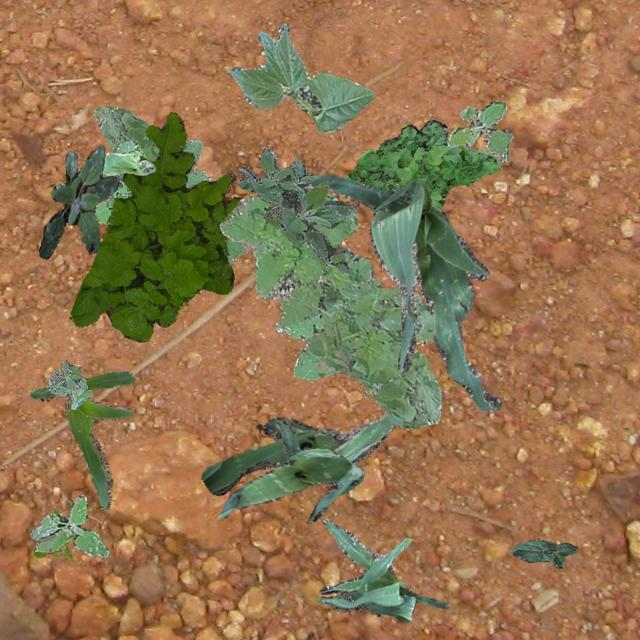crop: (308, 174, 500, 410), (200, 408, 394, 494), (228, 22, 374, 132), (215, 418, 364, 522), (29, 364, 132, 510), (316, 516, 448, 620), (508, 538, 576, 568), (100, 152, 154, 174)
weed: (218, 194, 440, 428), (68, 112, 240, 340), (92, 104, 248, 264), (236, 146, 358, 272), (344, 119, 499, 208), (38, 144, 118, 258), (29, 494, 108, 556), (93, 140, 145, 223), (446, 100, 512, 162), (46, 359, 92, 408), (32, 508, 74, 558)
